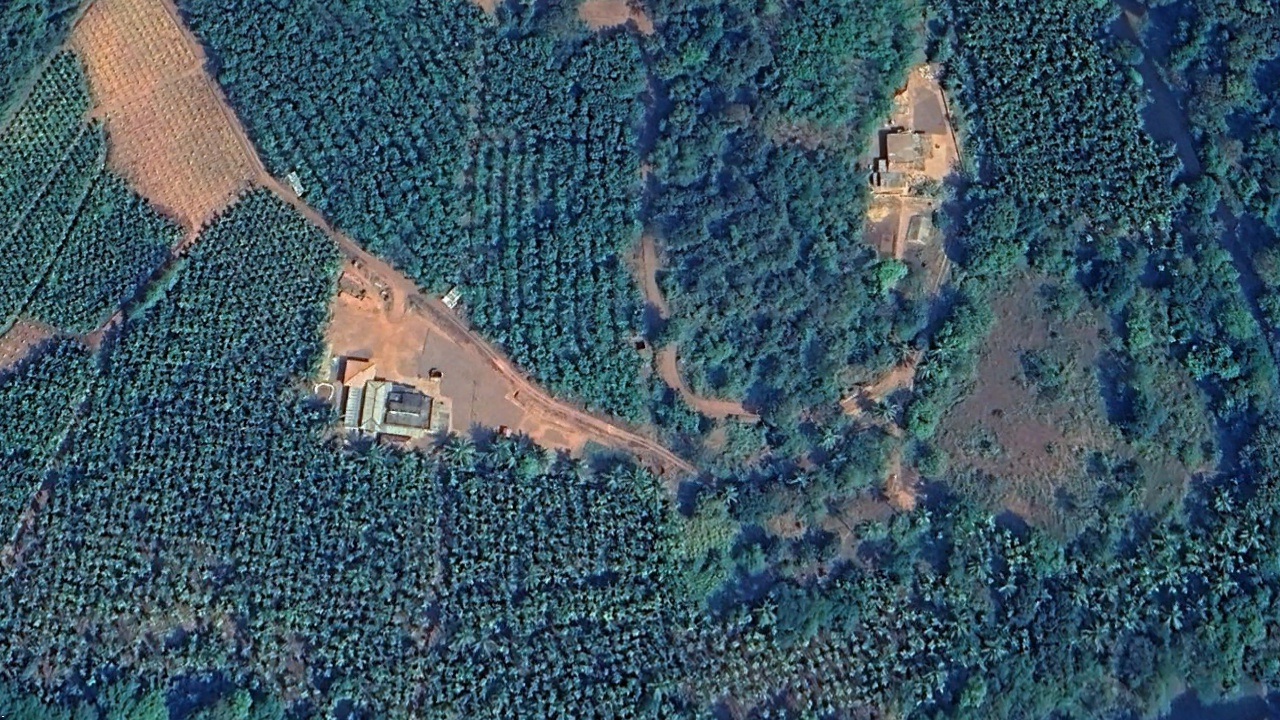arecanut: (11, 338, 680, 720), (977, 16, 1173, 200), (179, 179, 314, 329)
